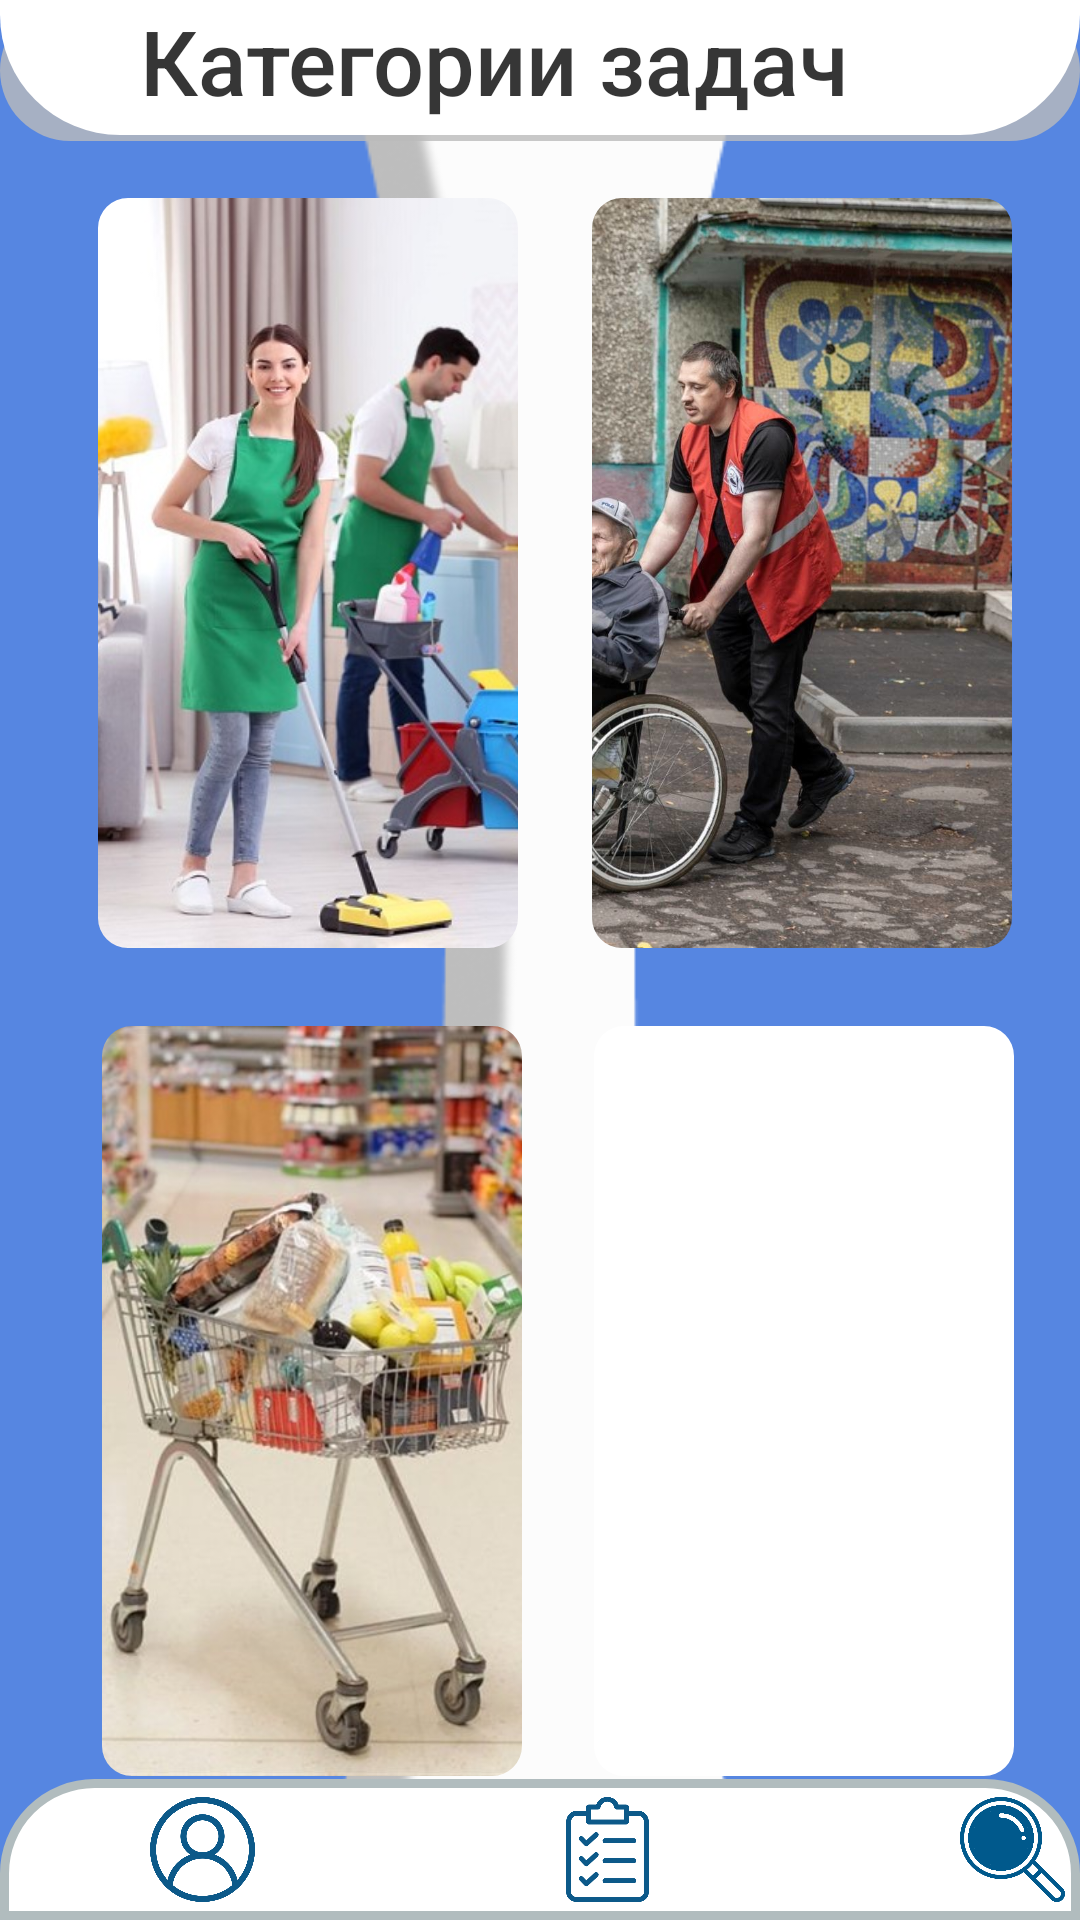

Point at icon controls on the screen. Image size 1080 × 1920, points as (x=x, y=y).
task: (x=607, y=1849)
toprofile: (x=202, y=1849)
